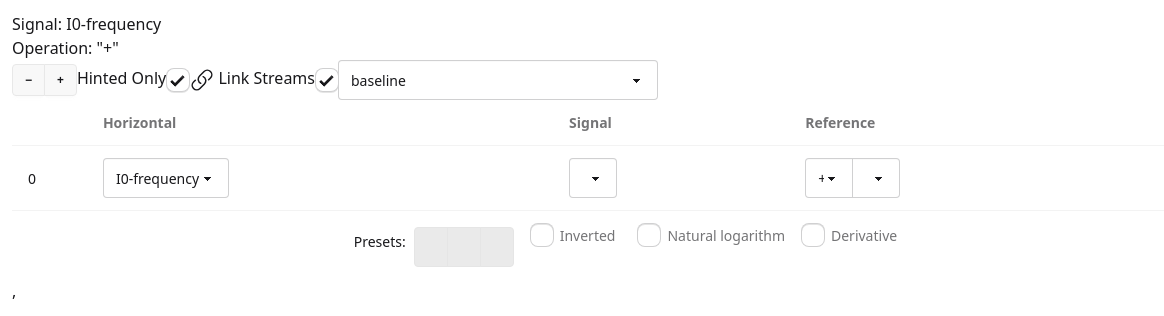
Test case: the SingleRunPicker() component › sets line data
The width and height of the screenshot is (1164, 316).
Select "It-frequency" in the 1st dropdown with test id "select-signal". click: (166, 178)
box: top-left (103, 158), bottom-right (229, 198)
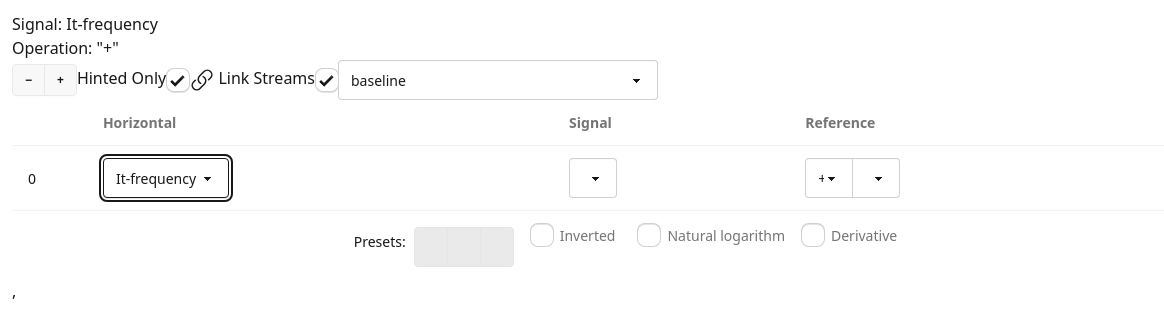
Check: the text "Signal: It-frequency" is shown, box top-left (12, 13), bottom-right (158, 35)
